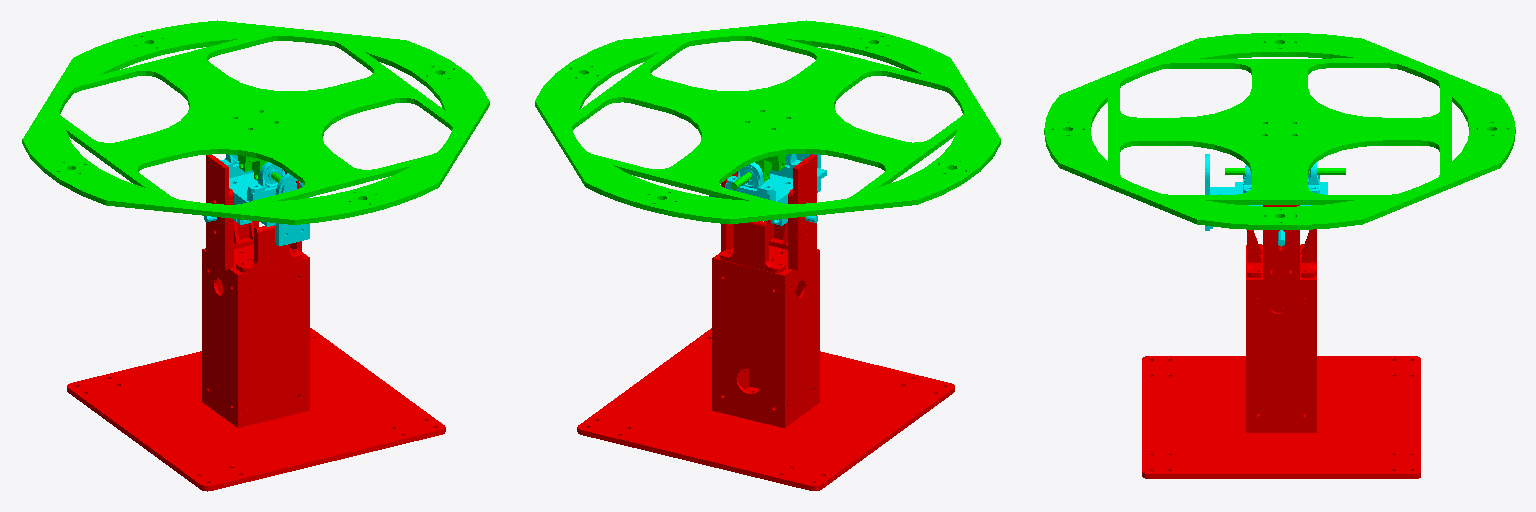
The robot description file, URDF, robot "URDF_V2":
<?xml version="1.0" encoding="utf-8"?>
<!-- This URDF was automatically created by SolidWorks to URDF Exporter! Originally created by [author] ([email redacted]) 
     Commit Version: 1.6.0-4-g7f85cfe  Build Version: 1.6.7995.38578
     For more information, please see http://wiki.ros.org/sw_urdf_exporter -->
<robot
  name="URDF_V2">
  <link
    name="base_link">
    <inertial>
      <origin
        xyz="0.112662642123337 0.0435961913100356 0.247459001132683"
        rpy="0 0 0" />
      <mass
        value="0.835049439032034" />
      <inertia
        ixx="0.00459108479638424"
        ixy="1.55416494251888E-19"
        ixz="-6.35925669996982E-20"
        iyy="0.00815237193812415"
        iyz="1.12431955833625E-07"
        izz="0.0046093924065789" />
    </inertial>
    <visual>
      <origin
        xyz="0 0 0"
        rpy="0 0 0" />
      <geometry>
        <mesh
          filename="../meshes/base_link.STL" />
      </geometry>
      <material
        name="">
        <color
          rgba="1 0 0 1" />
      </material>
    </visual>
    <collision>
      <origin
        xyz="0 0 0"
        rpy="0 0 0" />
      <geometry>
        <mesh
          filename="../meshes/base_link.STL" />
      </geometry>
    </collision>
  </link>
  <link
    name="link1">
    <inertial>
      <origin
        xyz="0.0616755661687693 -0.0190369806101637 0.0220965228246271"
        rpy="0 0 0" />
      <mass
        value="0.121233140077357" />
      <inertia
        ixx="4.42290041480953E-05"
        ixy="1.24717348389517E-10"
        ixz="-3.72771252890928E-10"
        iyy="4.23111631746693E-05"
        iyz="-7.72471756806447E-08"
        izz="6.67617083591906E-05" />
    </inertial>
    <visual>
      <origin
        xyz="0 0 0"
        rpy="0 0 0" />
      <geometry>
        <mesh
          filename="../meshes/link1.STL" />
      </geometry>
      <material
        name="">
        <color
          rgba="0 1 1 1" />
      </material>
    </visual>
    <collision>
      <origin
        xyz="0 0 0"
        rpy="0 0 0" />
      <geometry>
        <mesh
          filename="../meshes/link1.STL" />
      </geometry>
    </collision>
  </link>
  <joint
    name="joint1"
    type="revolute">
    <origin
      xyz="0.052285 -0.24746 0.22913"
      rpy="0.00028182 0 0" />
    <parent
      link="base_link" />
    <child
      link="link1" />
    <axis
      xyz="1 0 0" />
    <limit
      lower="-0.52332"
      upper="0.52388"
      effort="0"
      velocity="0" />
  </joint>
  <link
    name="link2">
    <inertial>
      <origin
        xyz="0.000136178233548334 0.00367218797104085 0.0680675460097938"
        rpy="0 0 0" />
      <mass
        value="1.1785585917192" />
      <inertia
        ixx="0.0130387045092571"
        ixy="-2.60962367223975E-07"
        ixz="-1.9446759051689E-08"
        iyy="0.0130303362155499"
        iyz="6.86769744606356E-10"
        izz="0.0254514746054841" />
    </inertial>
    <visual>
      <origin
        xyz="0 0 0"
        rpy="0 0 0" />
      <geometry>
        <mesh
          filename="../meshes/link2.STL" />
      </geometry>
      <material
        name="">
        <color
          rgba="0 1 0 1" />
      </material>
    </visual>
    <collision>
      <origin
        xyz="0 0 0"
        rpy="0 0 0" />
      <geometry>
        <mesh
          filename="../meshes/link2.STL" />
      </geometry>
    </collision>
  </link>
  <joint
    name="joint2"
    type="revolute">
    <origin
      xyz="0.061485 0 0.053"
      rpy="0 0.013885 -3.1416" />
    <parent
      link="link1" />
    <child
      link="link2" />
    <axis
      xyz="0 1 0" />
    <limit
      lower="-0.81798"
      upper="0.57716"
      effort="0"
      velocity="0" />
  </joint>
</robot>

--- Facts derived from the render (not from the file) ---
3 views of the same robot in one strip: view 1: azimuth 30°, elevation 25°; view 2: azimuth 150°, elevation 25°; view 3: azimuth 270°, elevation 25° (orthographic).
Model URDF_V2 with 3 links and 2 joints (2 revolute), rooted at base_link, posed all joints at 0.
Links seen in each view (by area): view 1: link2, base_link, link1; view 2: link2, base_link, link1; view 3: link2, base_link, link1.
Boxes of the visible links, x1=… form: link2: x1=22, y1=20, x2=489, y2=224; base_link: x1=67, y1=155, x2=445, y2=491; link1: x1=204, y1=154, x2=312, y2=245; link2: x1=535, y1=20, x2=1000, y2=224; base_link: x1=577, y1=154, x2=954, y2=490; link1: x1=709, y1=154, x2=826, y2=225; link2: x1=1044, y1=33, x2=1515, y2=229; base_link: x1=1142, y1=205, x2=1420, y2=478; link1: x1=1205, y1=154, x2=1327, y2=246.
Bounding box of the posed robot: 0.5037 × 0.505 × 0.3472 m (x, y, z).
Meshes: 3 distinct files referenced, 3 mesh visuals loaded (3 binary STL).